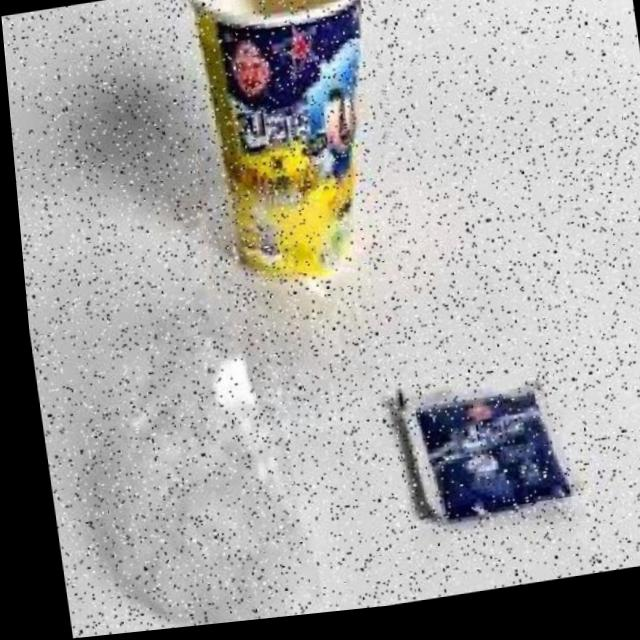Miscellaneous: (171, 0, 405, 294)
